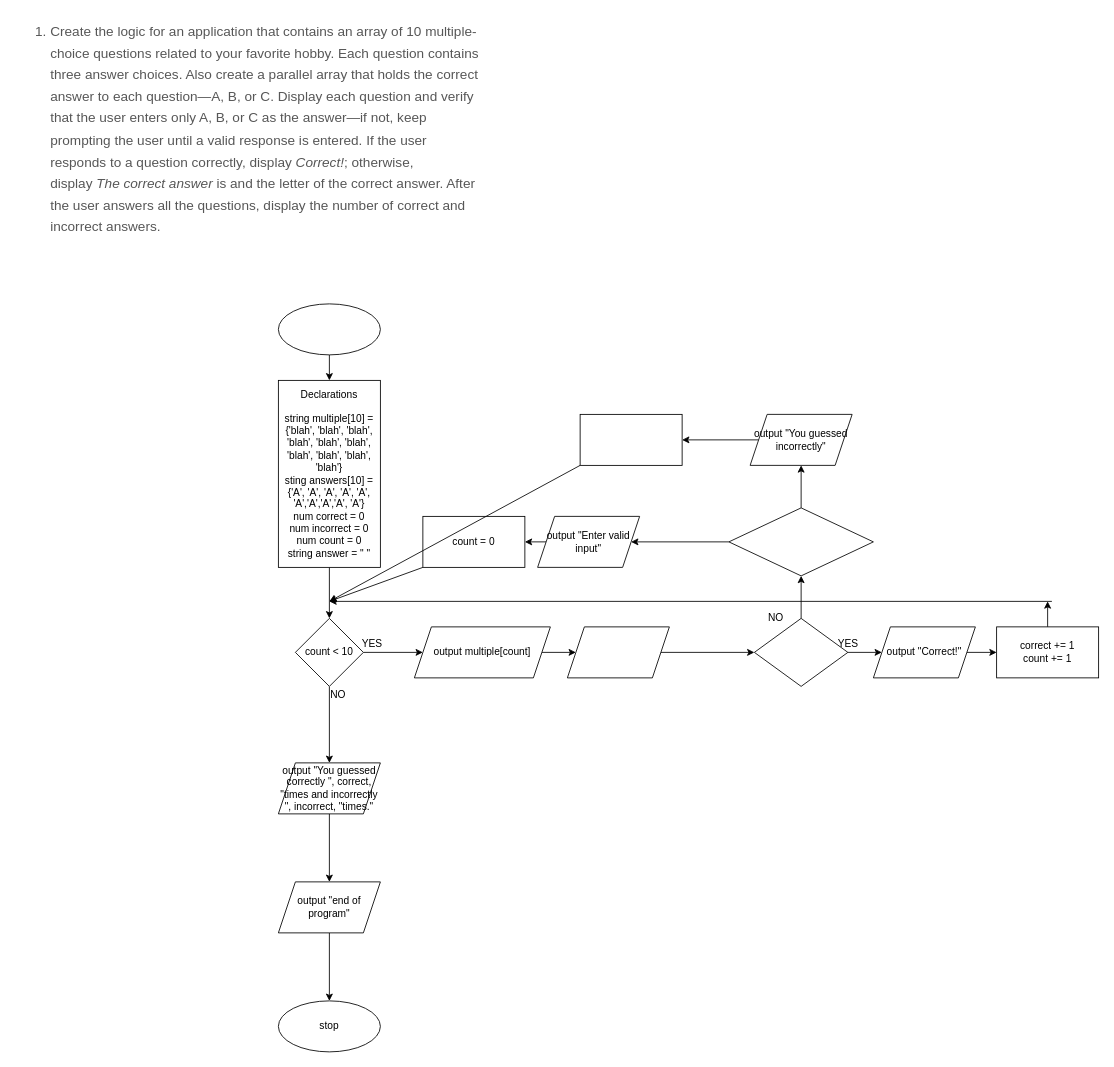
The diagram is 1114 pixels wide and 1067 high, and some of its shapes have lost their labels. The shapes that lost their labels are listed below. From the top down, each one's box as (x1, y1, x2, y2) in pixels, then its label:
(278, 303, 380, 355): start
(579, 414, 682, 465): incorrect += 1 count += 1
(728, 507, 873, 576): answer == 'A' OR answer == 'B' OR answer == 'C'
(567, 626, 669, 678): input answer
(754, 618, 848, 686): answer == answers[count]
